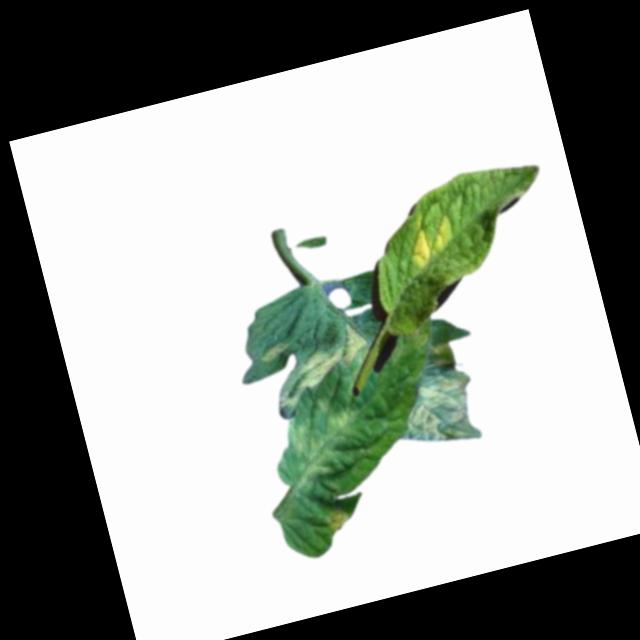Leaf_Mold: (268, 318, 376, 403), (400, 367, 486, 453), (289, 400, 378, 482), (402, 212, 460, 273), (324, 506, 355, 539), (257, 341, 287, 364)
